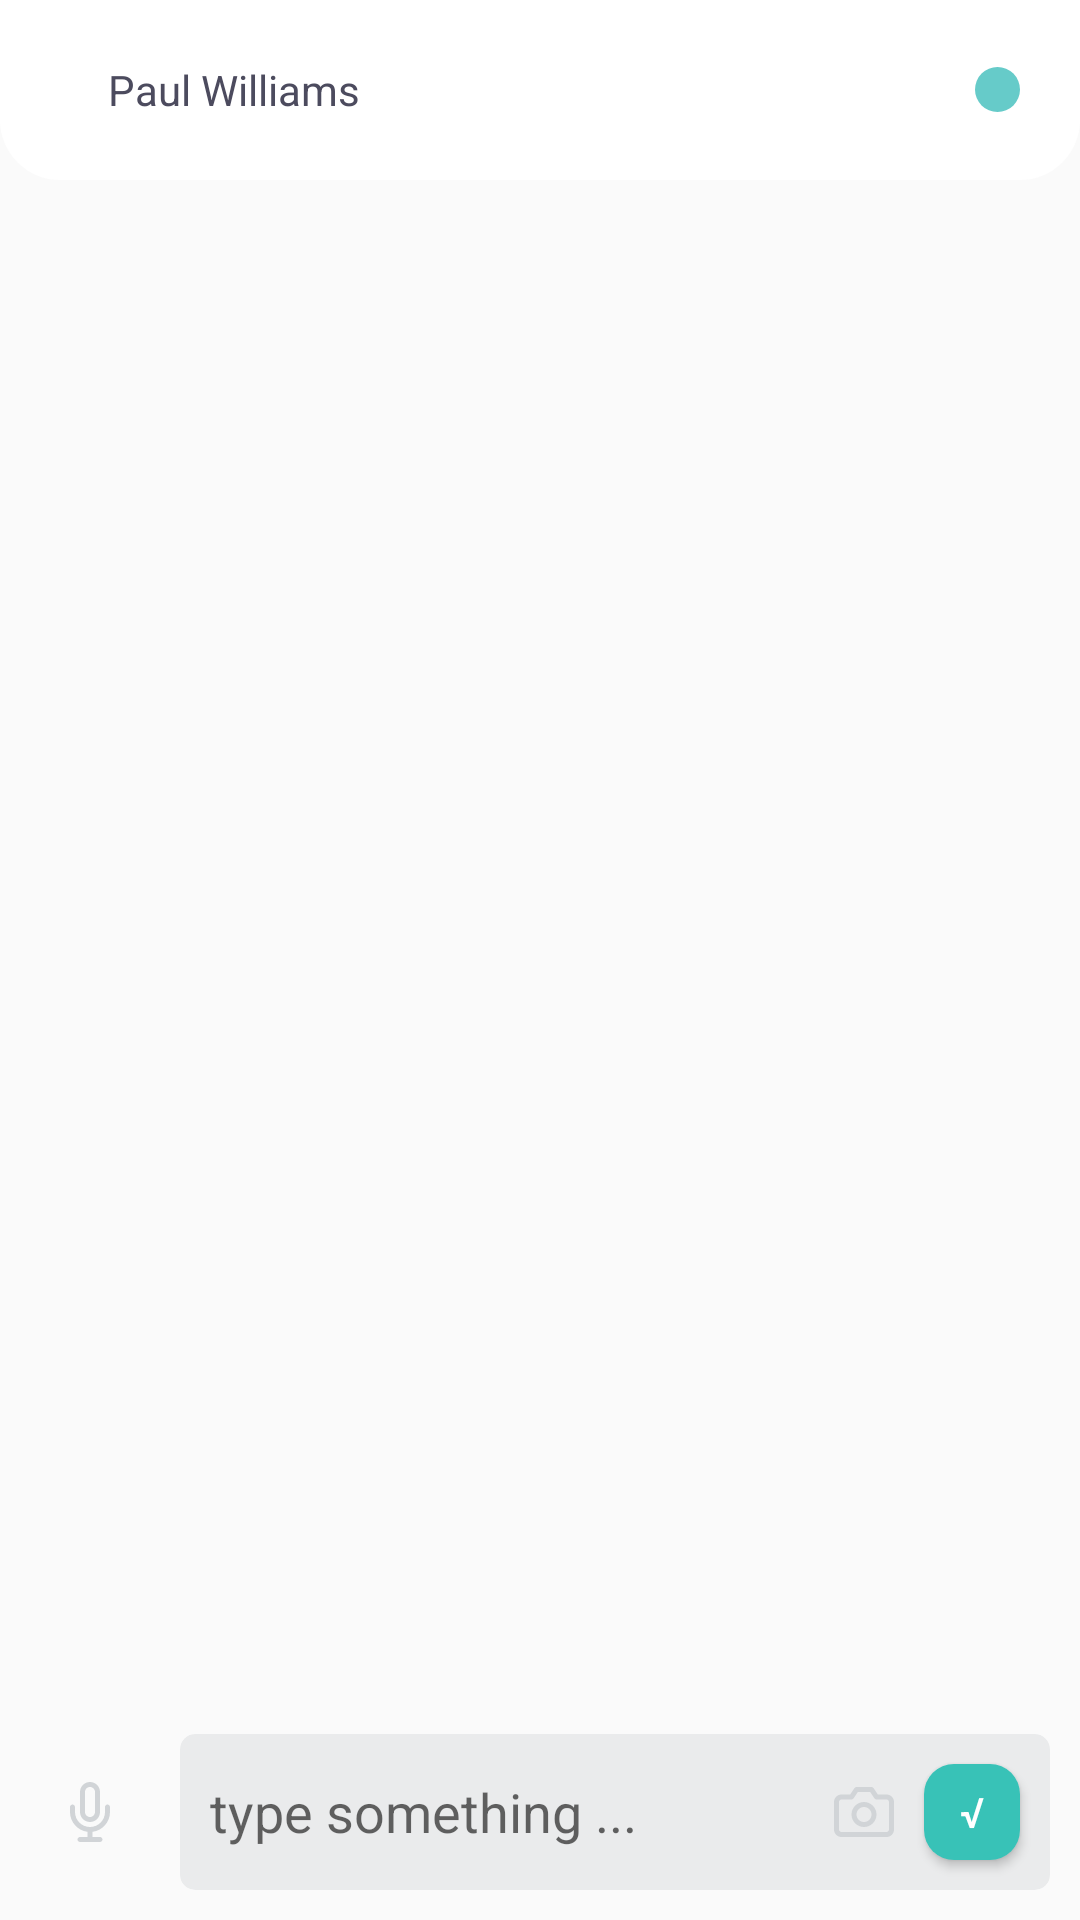

Where icons sit on this 1080*1920 app screen, as (x1, y1, x2, y2):
camera: (834, 1787, 894, 1837)
mic: (70, 1782, 110, 1842)
